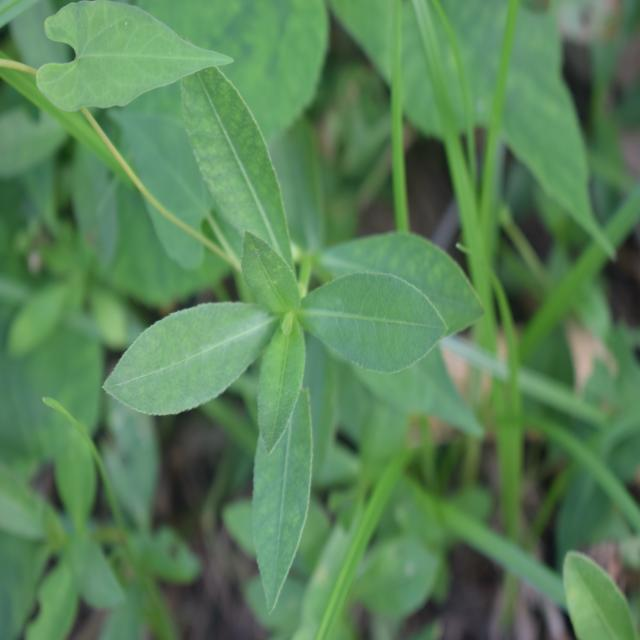Alligatorweed: (97, 110, 462, 545)
